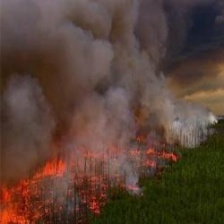fire: (1, 133, 169, 224)
smoke: (1, 1, 210, 120)
